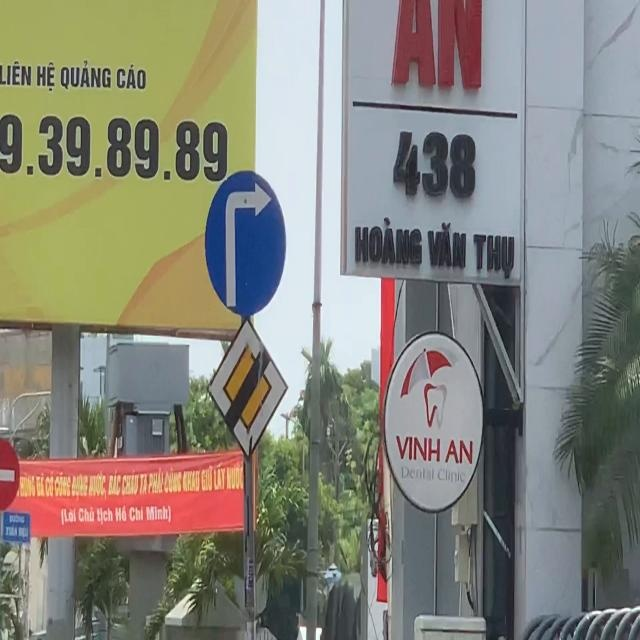bien_hieu_lenh: (204, 169, 286, 318)
